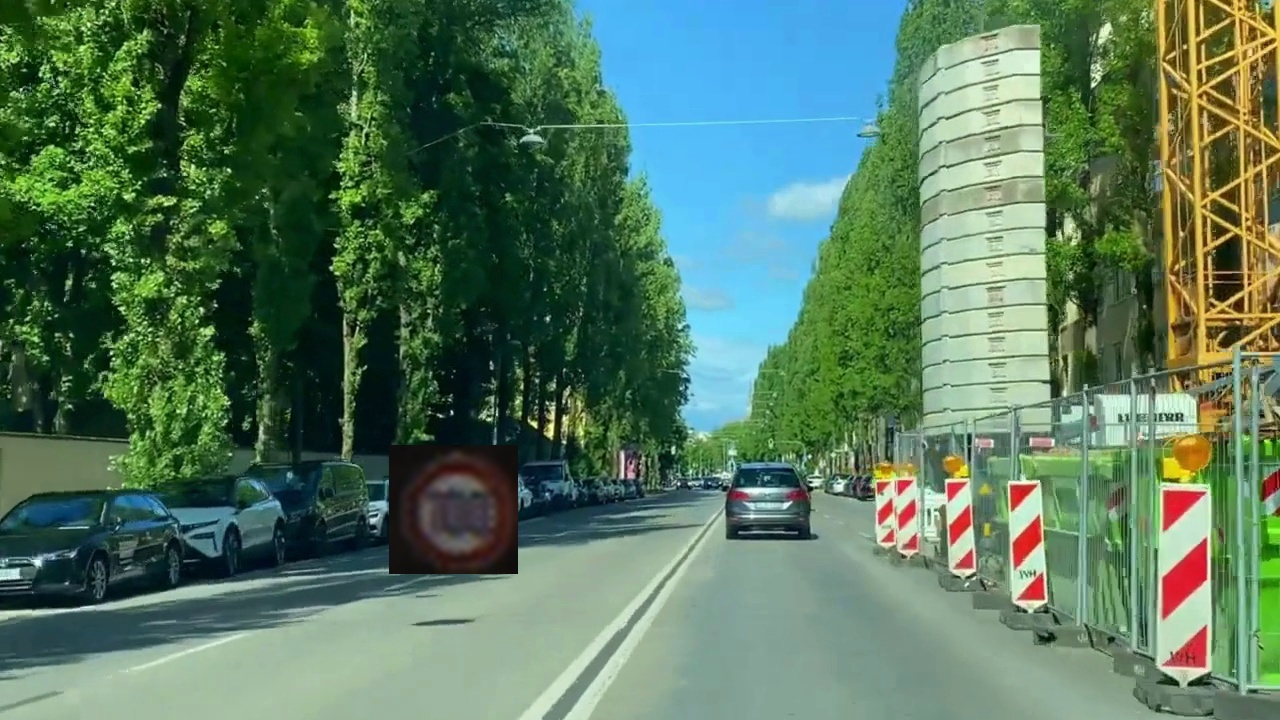Speed 100: (389, 445, 518, 574)
